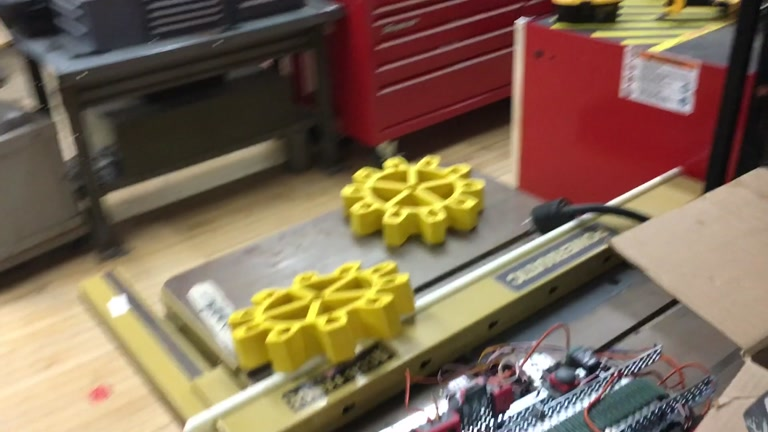gear: (226, 259, 416, 373), (339, 154, 486, 247)
